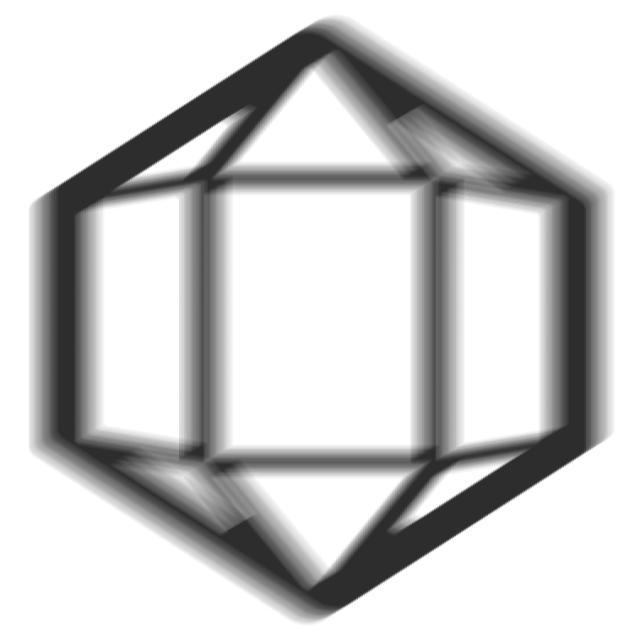crystal: (16, 13, 629, 635)
